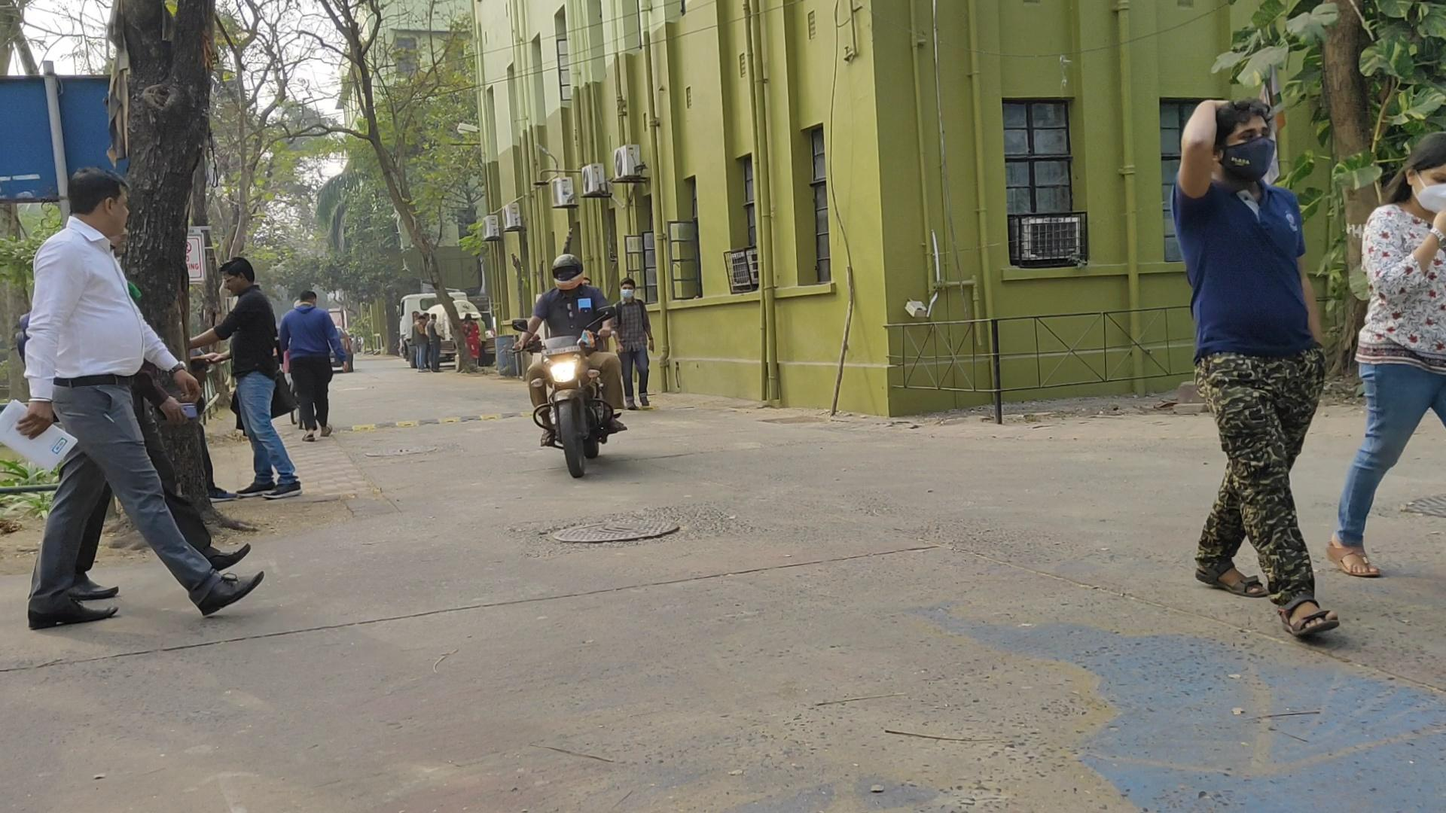bike: (511, 254, 628, 479)
truck: (397, 291, 482, 370)
